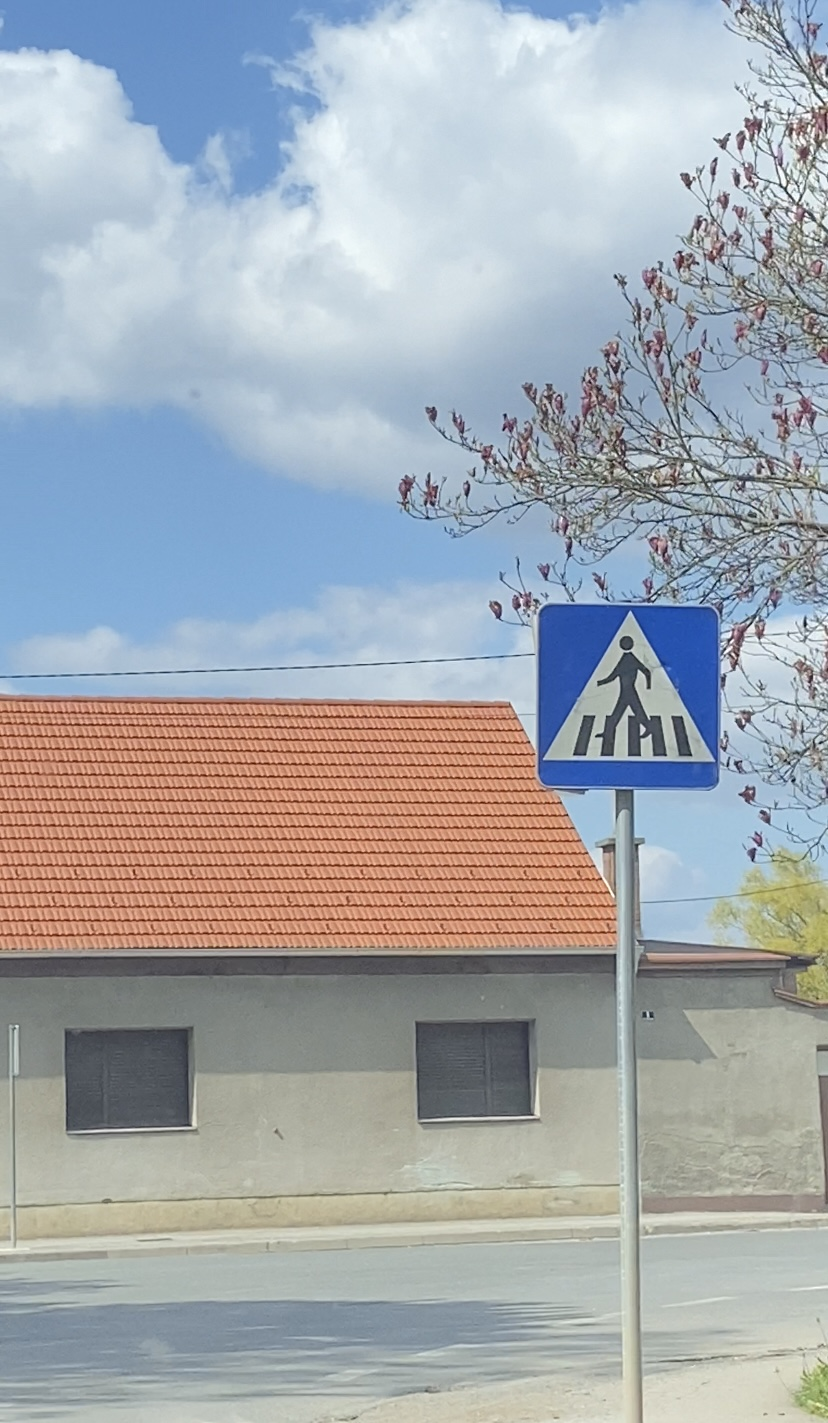Pješački prijelaz: (534, 598, 722, 787)
